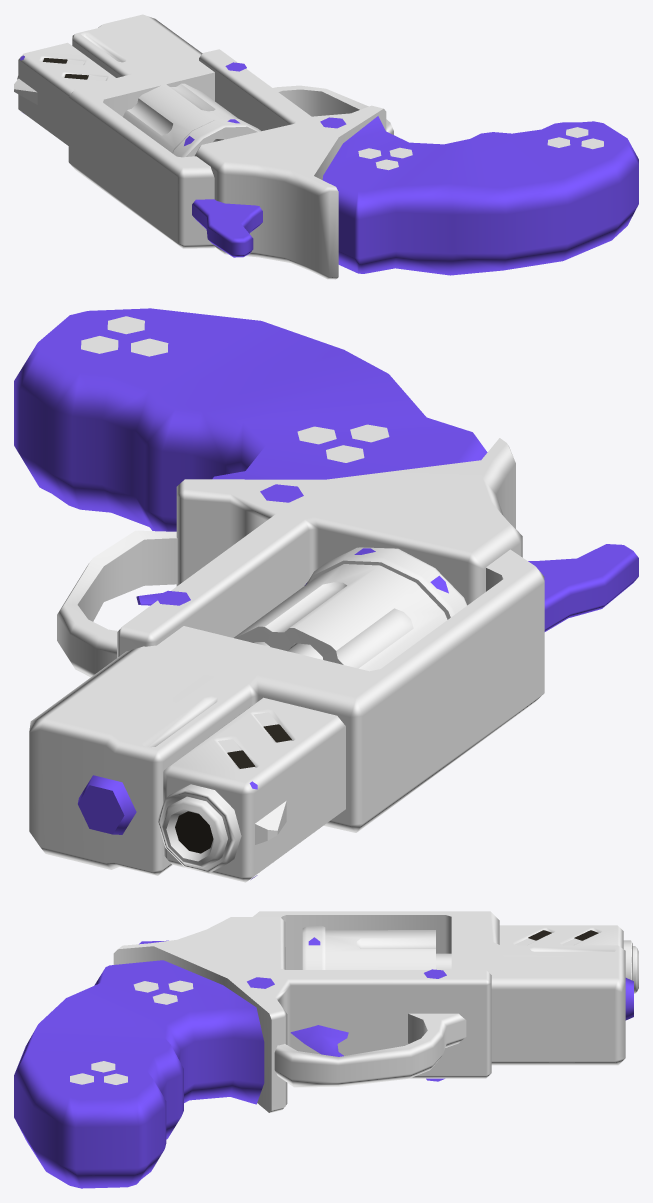
File: kirino.glb
The picture shows the model from 3 angles, top to bottom: view 1: azimuth 30°, elevation 25°; view 2: azimuth 150°, elevation 25°; view 3: azimuth 270°, elevation 25°; orthographic projection. The views are drawn at different scales.
Visible parts, largest first — view 1: Kirino_Original_Weapon; view 2: Kirino_Original_Weapon; view 3: Kirino_Original_Weapon.
Boxes of the visible parts, bbox=[...] form: Kirino_Original_Weapon: bbox=[14, 14, 638, 279]; Kirino_Original_Weapon: bbox=[14, 308, 638, 882]; Kirino_Original_Weapon: bbox=[14, 911, 638, 1188].
Size of the model in its own units: 0.1269 by 0.0328 by 0.1682.
1 material, 1 textured.
